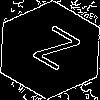Z: (25, 25, 82, 80)
